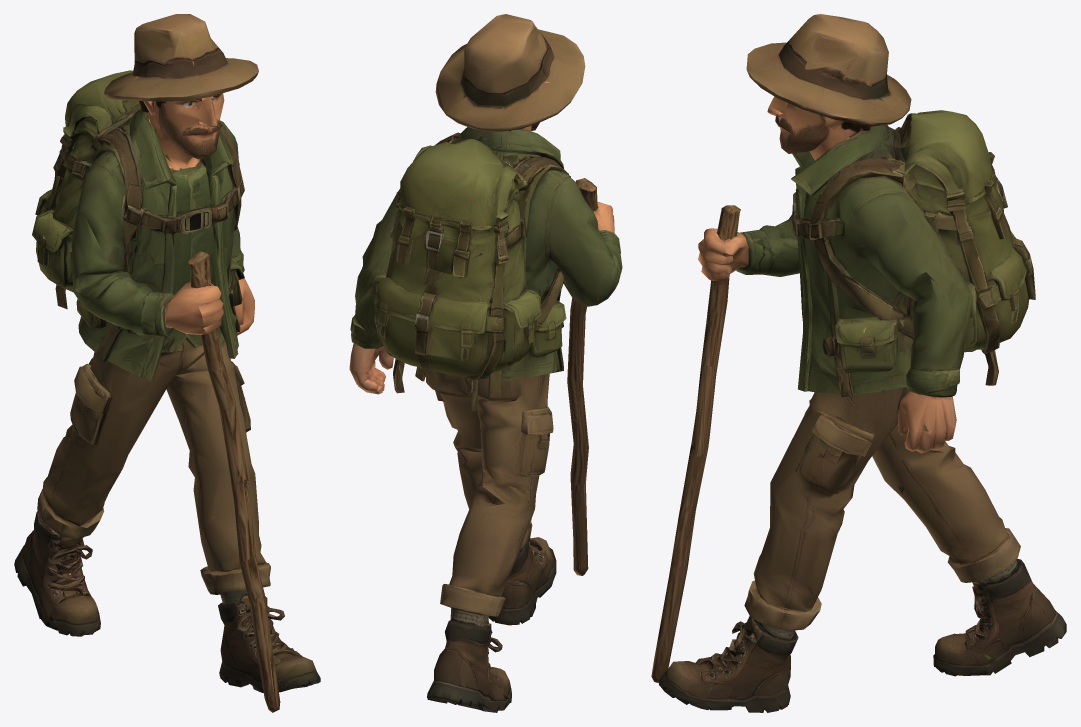
File: SM_Hiker_Fal.fbx
The picture shows the model from 3 angles, left to right: view 1: azimuth 30°, elevation 25°; view 2: azimuth 150°, elevation 25°; view 3: azimuth 270°, elevation 25°; orthographic projection. The views are drawn at different scales.
Parts seen in each view (by area): view 1: SM_Hiker; view 2: SM_Hiker; view 3: SM_Hiker.
Part boxes in pixels (x1,y1,x2,y2): SM_Hiker: (14,14,320,712); SM_Hiker: (349,14,622,712); SM_Hiker: (651,14,1066,712).
Size of the model in its own units: 0.6893 by 1.9 by 1.07.
1 material, 1 textured.
